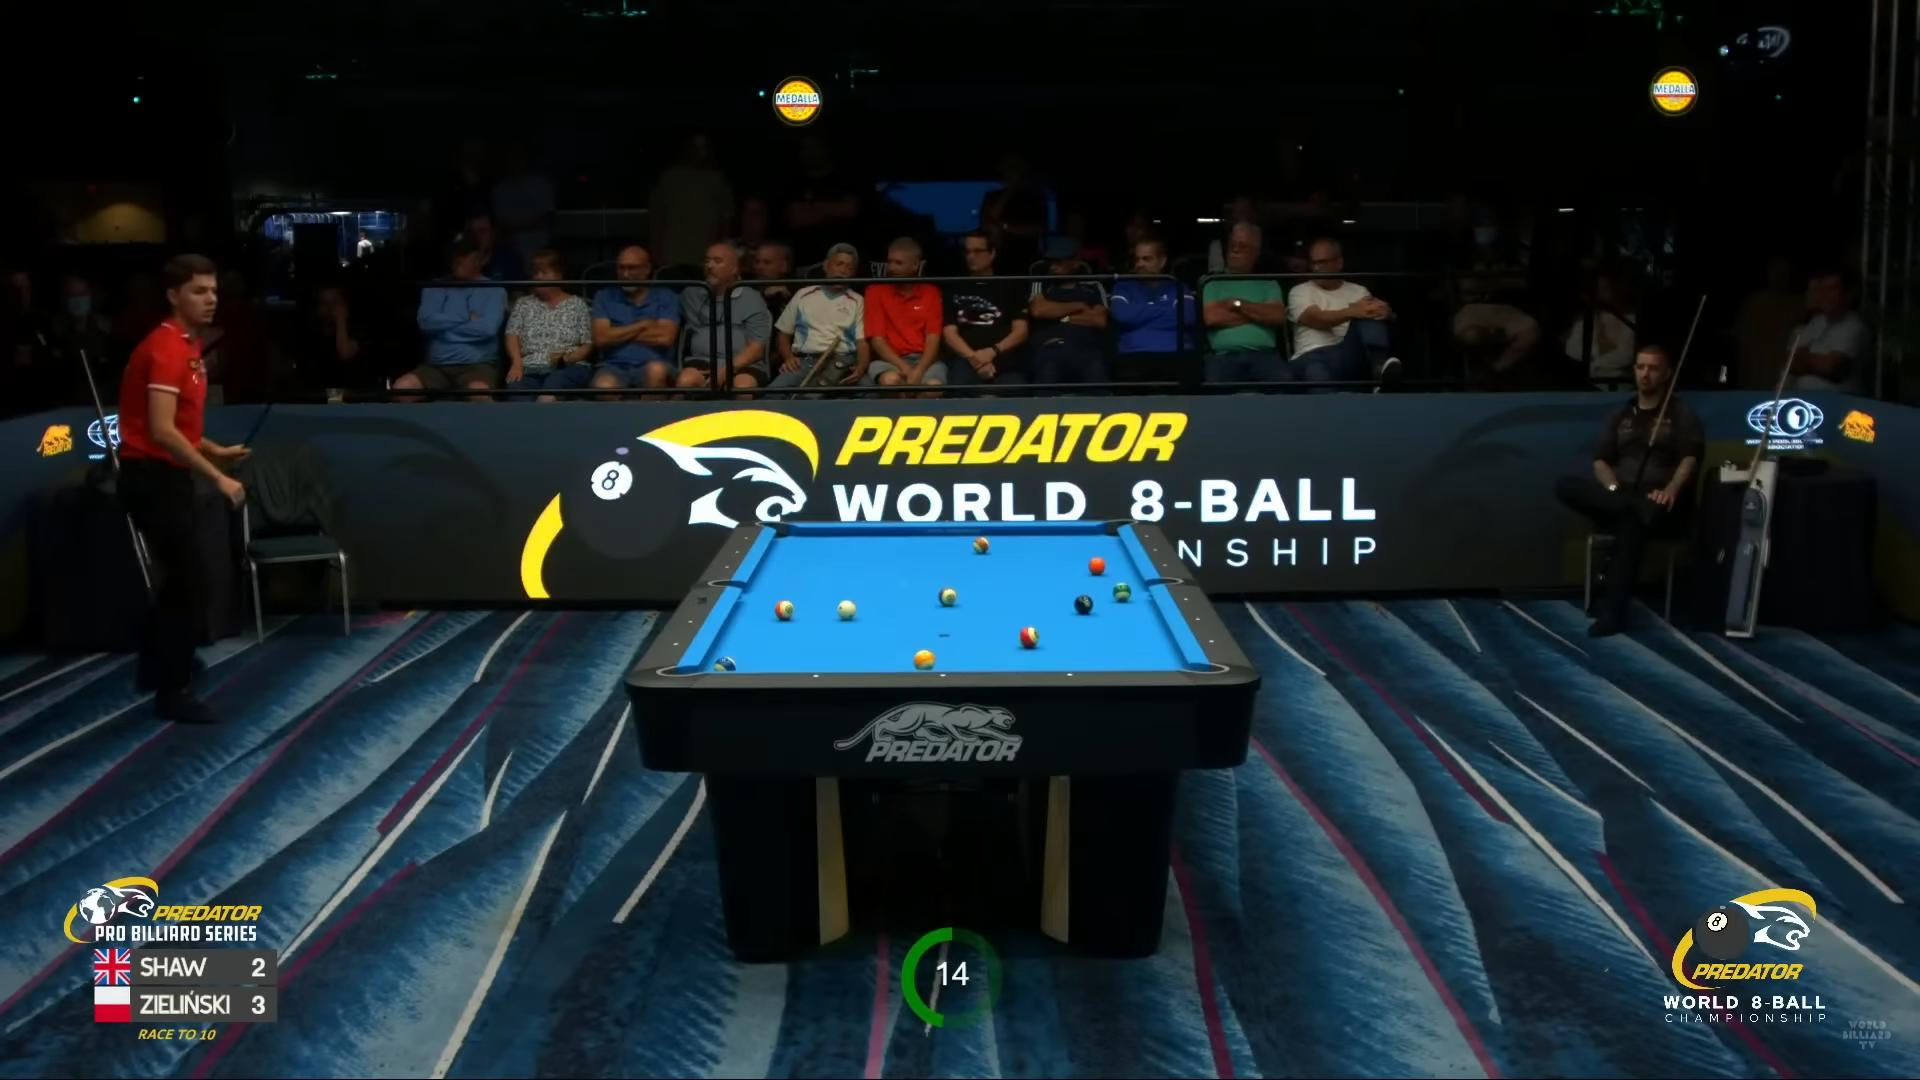Black: (1073, 595, 1093, 615)
Cue: (837, 600, 856, 618)
Dot: (720, 562, 735, 572), (940, 516, 955, 526), (1073, 516, 1088, 526), (1191, 615, 1205, 625), (1204, 636, 1218, 646), (740, 533, 753, 543), (1149, 545, 1162, 555), (1063, 670, 1076, 680), (936, 670, 949, 680), (669, 640, 683, 649), (683, 617, 698, 626), (731, 547, 745, 556), (1139, 531, 1154, 541), (808, 671, 823, 680), (857, 517, 870, 526), (1158, 560, 1171, 570), (1179, 595, 1192, 604)
Solid: (1088, 556, 1105, 574)
Striped: (1019, 626, 1039, 647), (914, 650, 935, 670), (939, 587, 959, 605), (1113, 583, 1131, 601), (775, 600, 794, 618), (715, 657, 737, 671), (973, 537, 989, 553)
